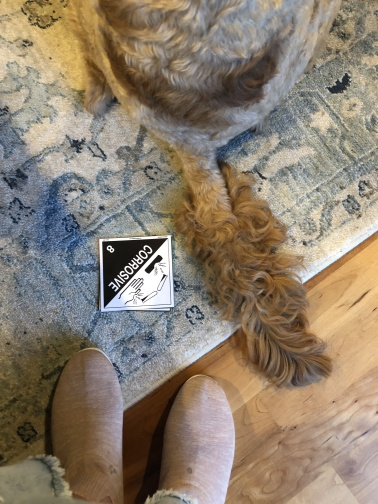Corrosive: (97, 238, 179, 311)
